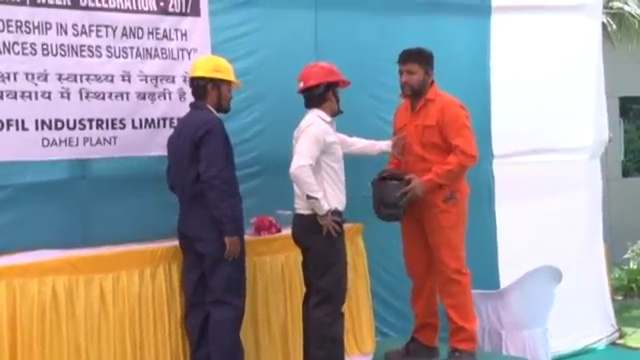helmet: (295, 59, 353, 93), (187, 54, 241, 90)
helmet_off: (397, 46, 437, 98)
helmet_on: (294, 60, 354, 120), (186, 54, 242, 117)
person: (288, 57, 403, 360), (393, 46, 483, 360), (162, 53, 250, 360)
